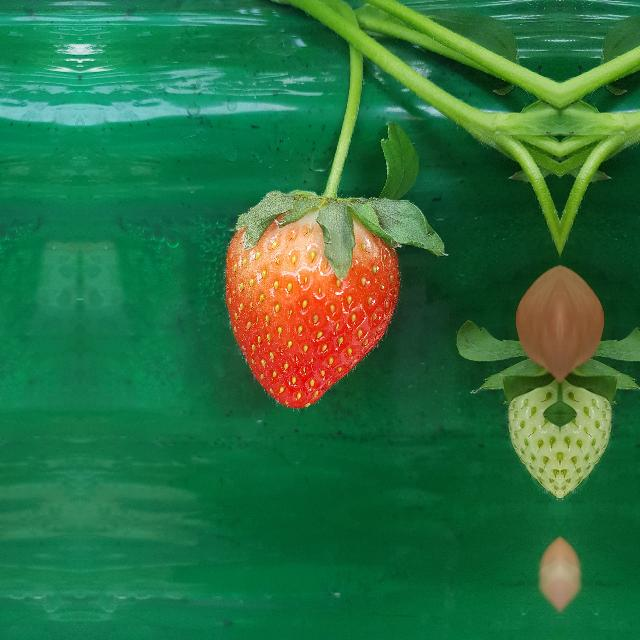Health_100: (222, 195, 400, 411)
